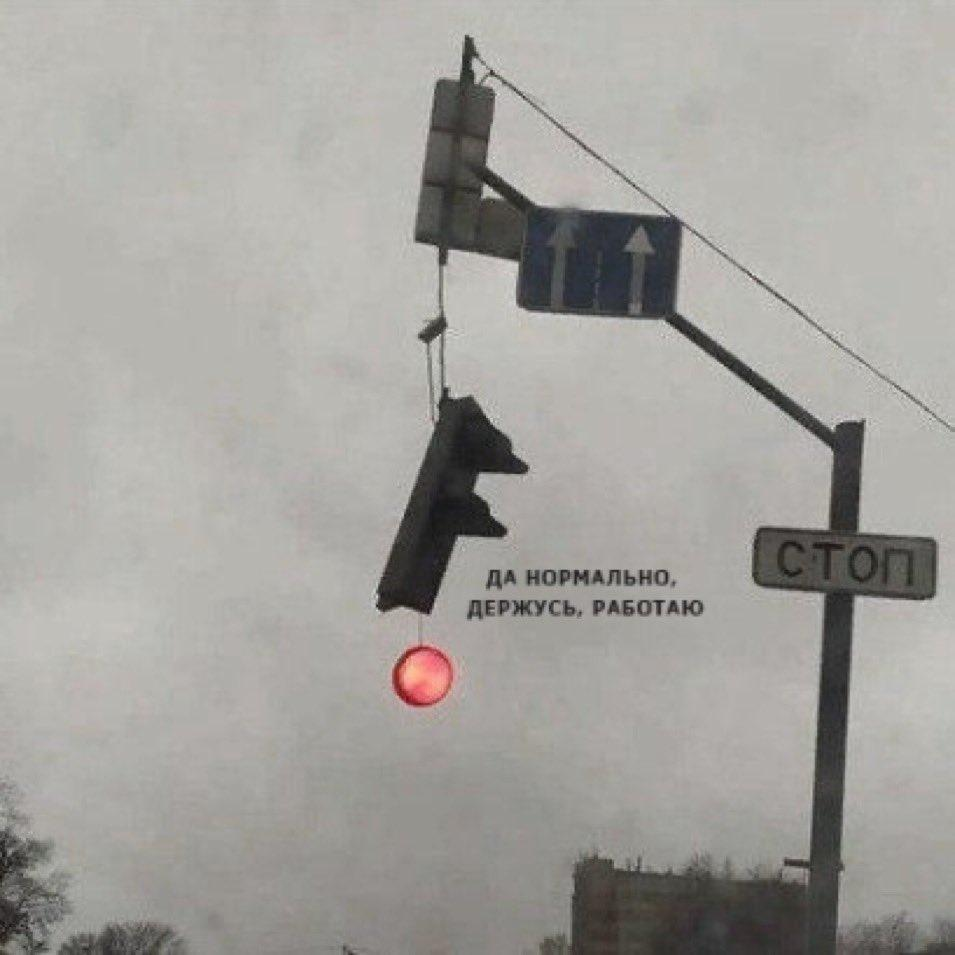off traffic light: (377, 397, 528, 614), (363, 224, 364, 231)
road_sign: (517, 207, 681, 319), (752, 528, 936, 599)
